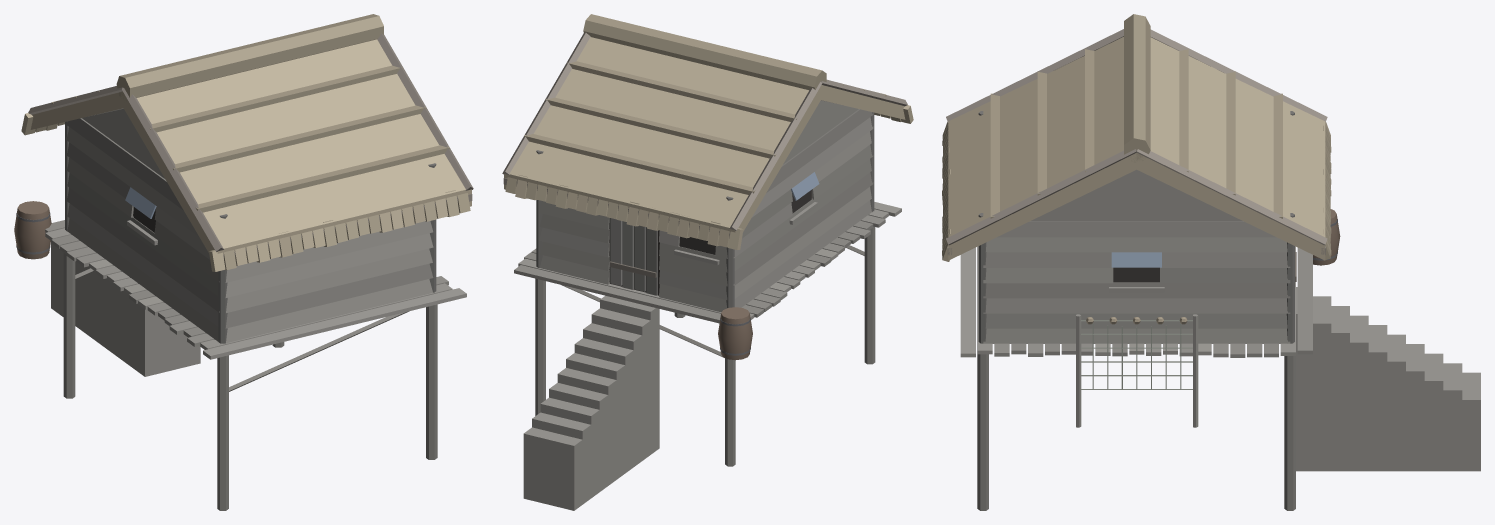
File: house_2_0.gltf
3 renders of one model, left to right at view 1: azimuth 30°, elevation 25°; view 2: azimuth 150°, elevation 25°; view 3: azimuth 270°, elevation 25°, orthographic. The views are drawn at different scales.
Visible parts, largest first — view 1: Body; view 2: Body; view 3: Body.
Boxes of the visible parts, box(x1,y1,x2,y2) form: Body: box(14, 14, 473, 510); Body: box(502, 14, 913, 510); Body: box(942, 14, 1480, 510).
Size of the model in its own units: 5.89 by 7.2 by 9.21.
